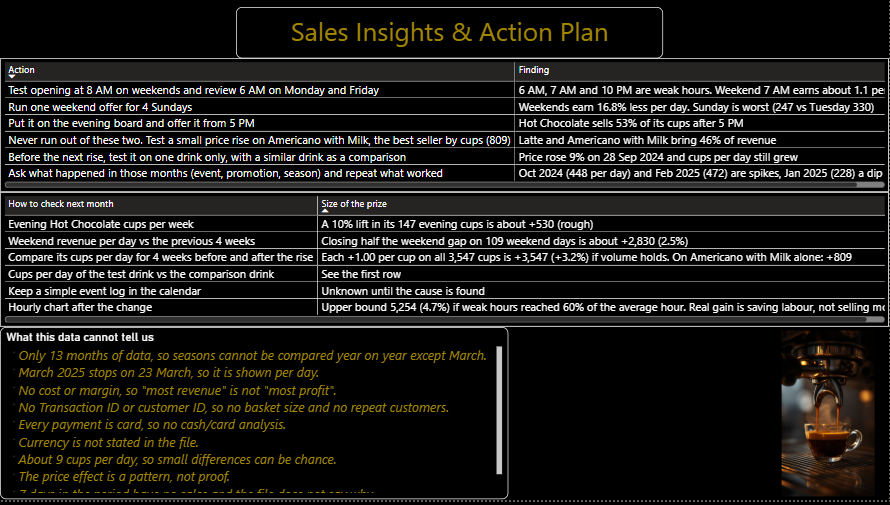

Layout of this report page (visuals, bound fields, positions):
{"tool":"powerbi","page":{"name":"Insights & Actions","canvas":[1280,720],"ordinal":3},"visuals":[{"type":"textbox","box":[339.3,10.3,615.2,73.7],"z":0},{"type":"textbox","title":"What this data cannot tell us","box":[0,471.2,731.7,248.5],"z":1000},{"type":"tableEx","fields":{"Values":["Table.How to check next month","Table.Size of the prize"]},"box":[0,276.5,1280.2,194.4],"z":2000},{"type":"tableEx","fields":{"Values":["Table.Action","Table.Finding"]},"box":[0,83.5,1280.2,193],"z":3000},{"type":"image","box":[1104.5,470.9,175.7,249.1],"z":4000}]}

Visuals, with their boxes in screenshot pixels (x1, y1, x2, y2), scaled from the page's 1280x720 canvas onto the 890x505 screenshot:
textbox: BBox(236, 7, 664, 59)
"What this data cannot tell us" textbox: BBox(0, 330, 509, 504)
tableEx - Table.How to check next month x Table.Size of the prize: BBox(0, 194, 889, 330)
tableEx - Table.Action x Table.Finding: BBox(0, 59, 889, 194)
image: BBox(768, 330, 889, 504)
